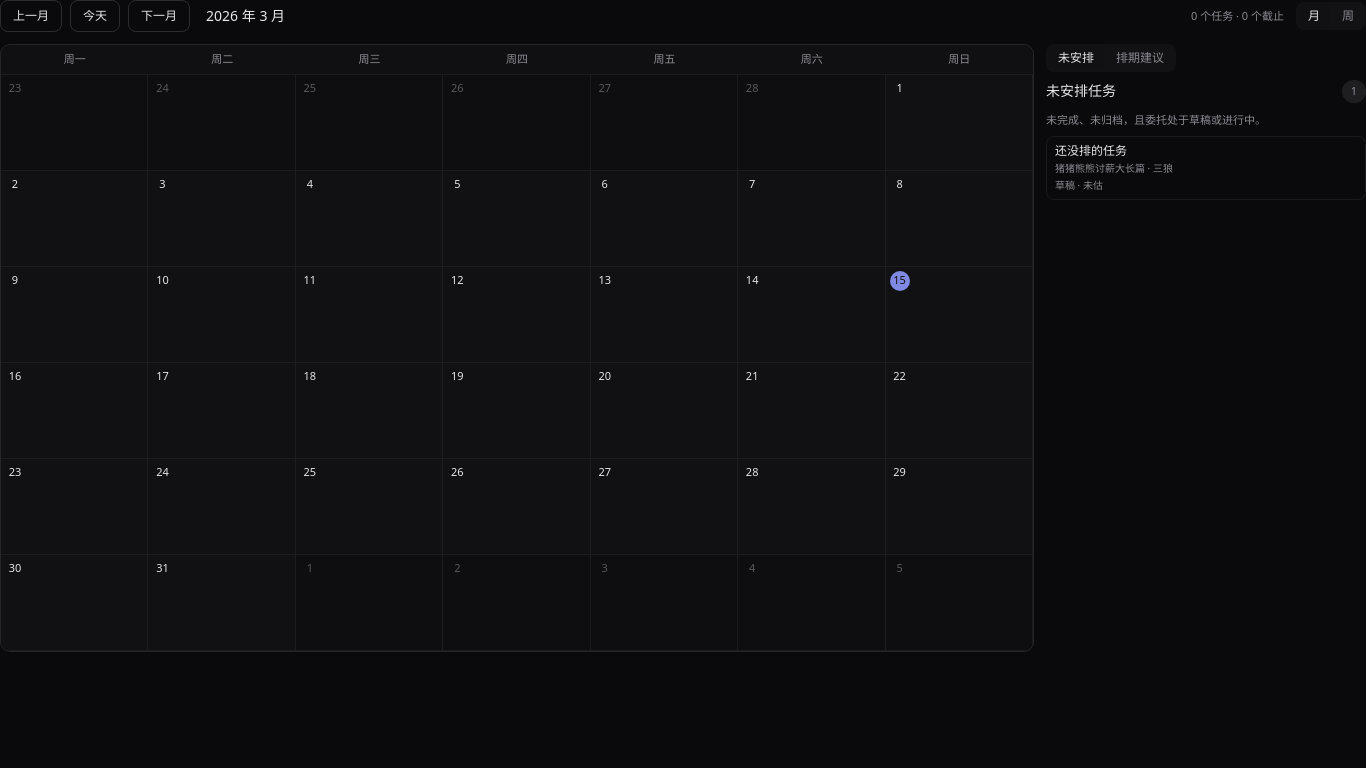
日历页：周视图与未安排 › 未安排任务列表展示任务，点击打开详情
Check: the element with test id "unscheduled-panel" shows "未完成、未归档", box [1046, 112, 1266, 126]
Click the button with test id "unscheduled-item": [1091, 151] box [1046, 136, 1365, 200]
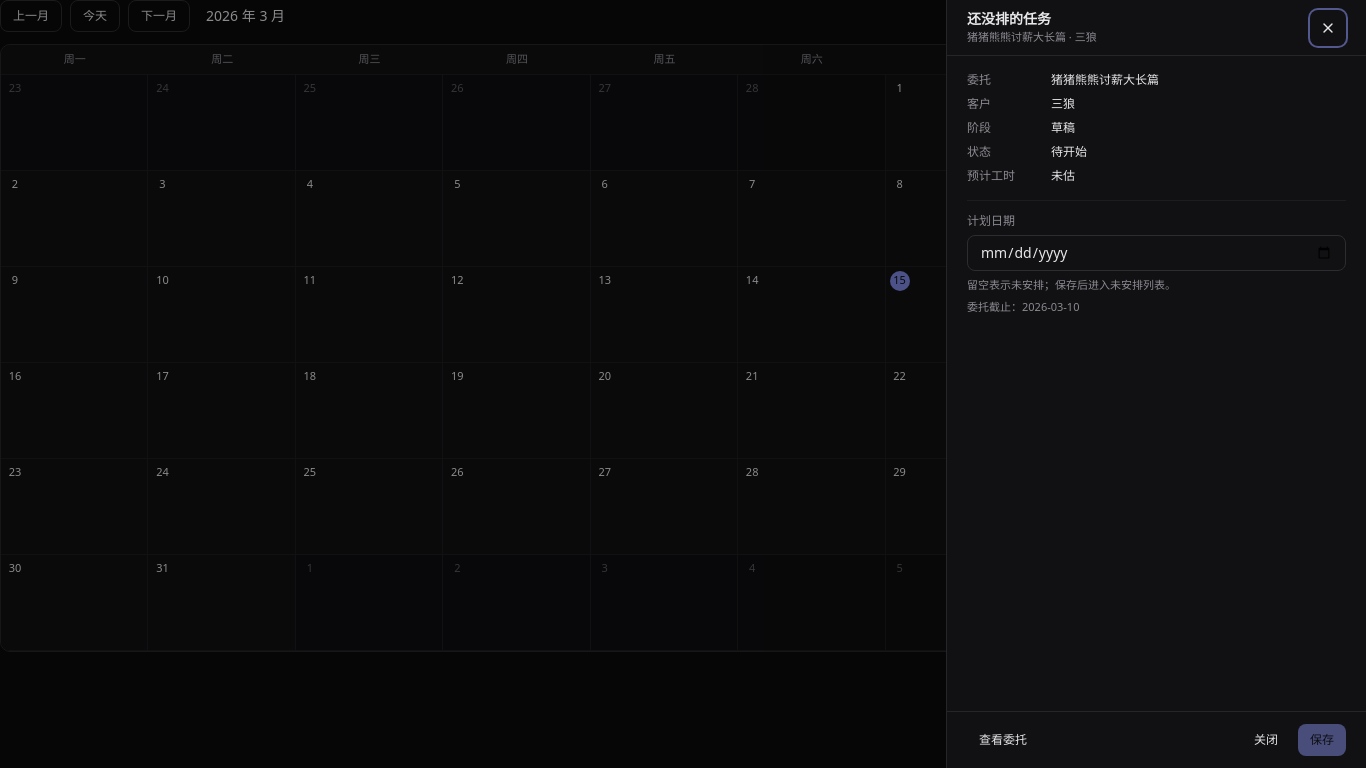
Check: the heading "还没排的任务" is shown, box [967, 9, 1051, 28]
Check: the date field labelled "计划日期" is empty, box [967, 235, 1346, 271]
Click the button "关闭": [1266, 740] box [1242, 724, 1290, 756]
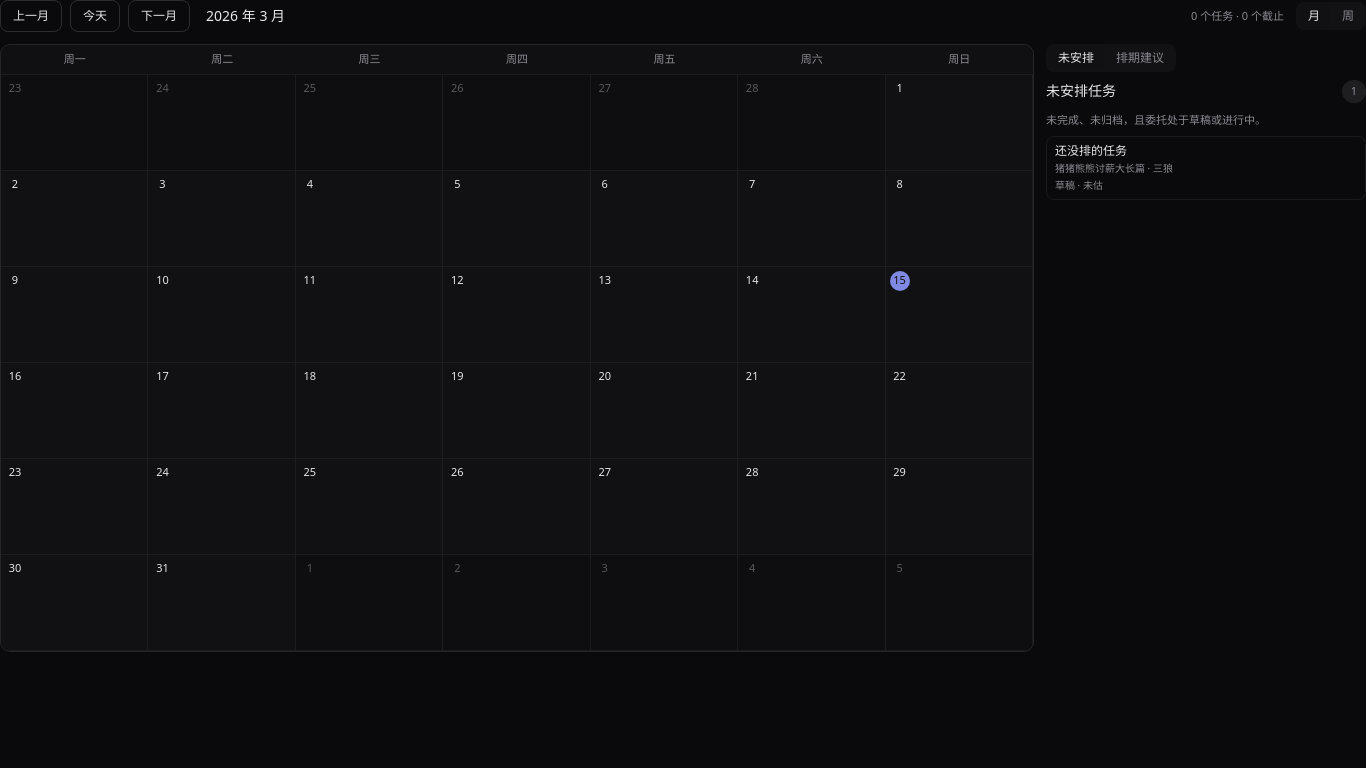
Check: the dialog with test id "sheet" is gone
